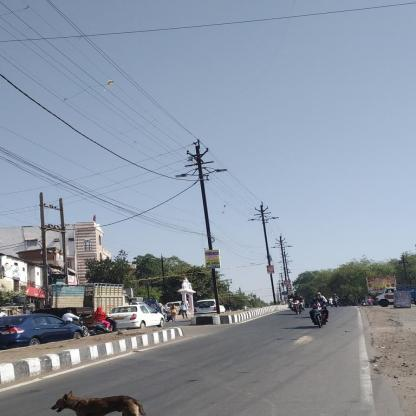Electrical Pole: (173, 133, 243, 317)
